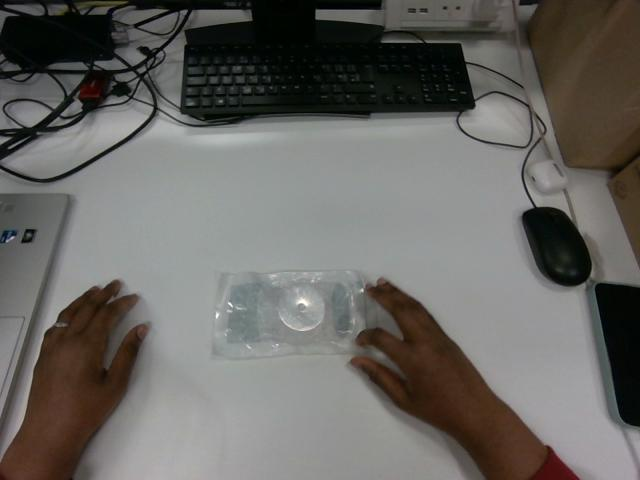gallipot: (213, 271, 374, 357)
